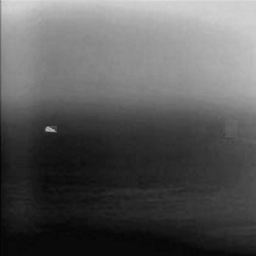Target: (44, 125, 58, 133)
